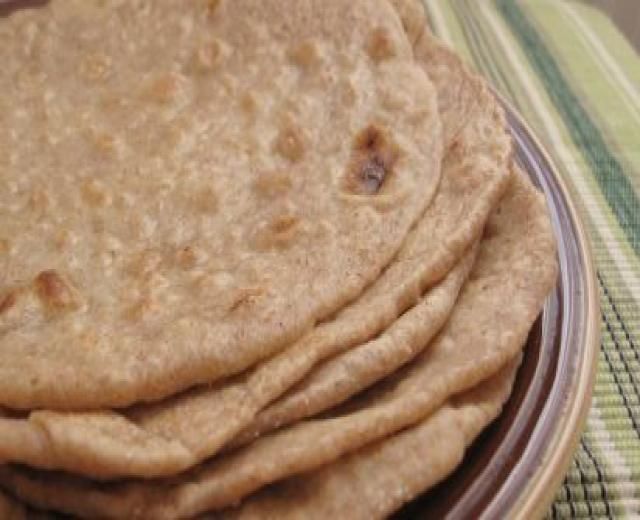chapati: (0, 0, 556, 518)
